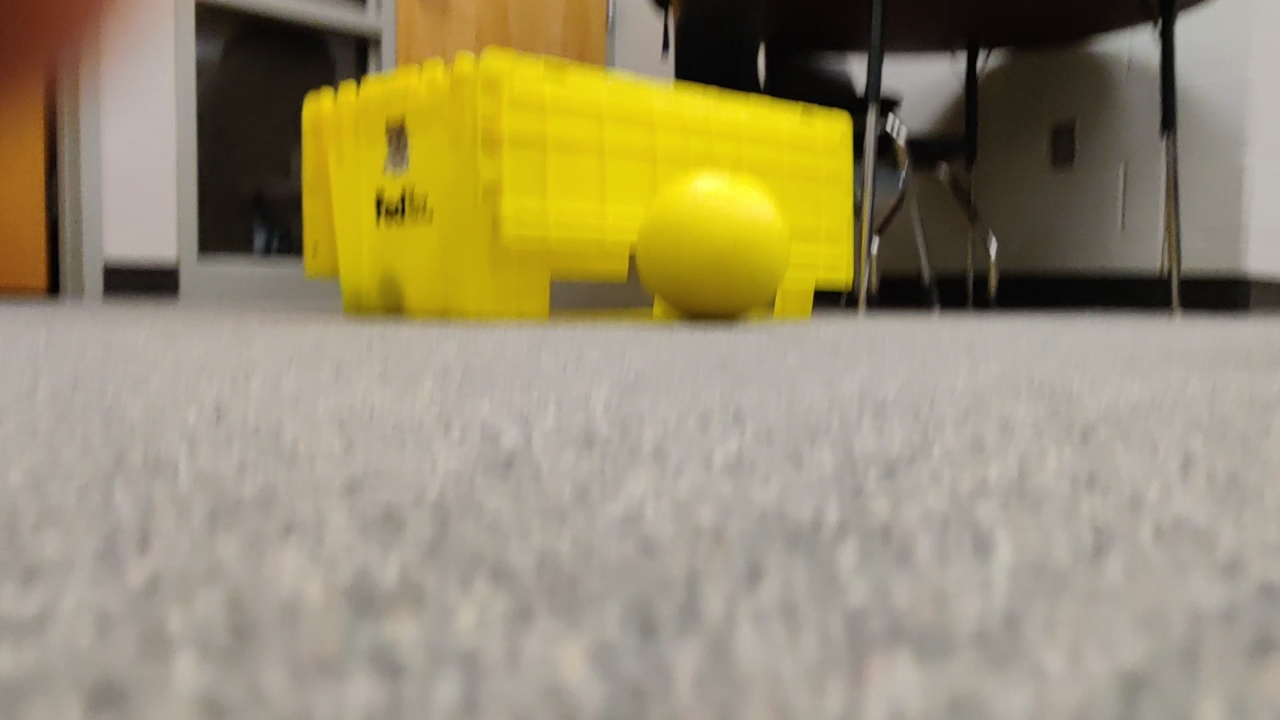Ball: (637, 169, 787, 319)
